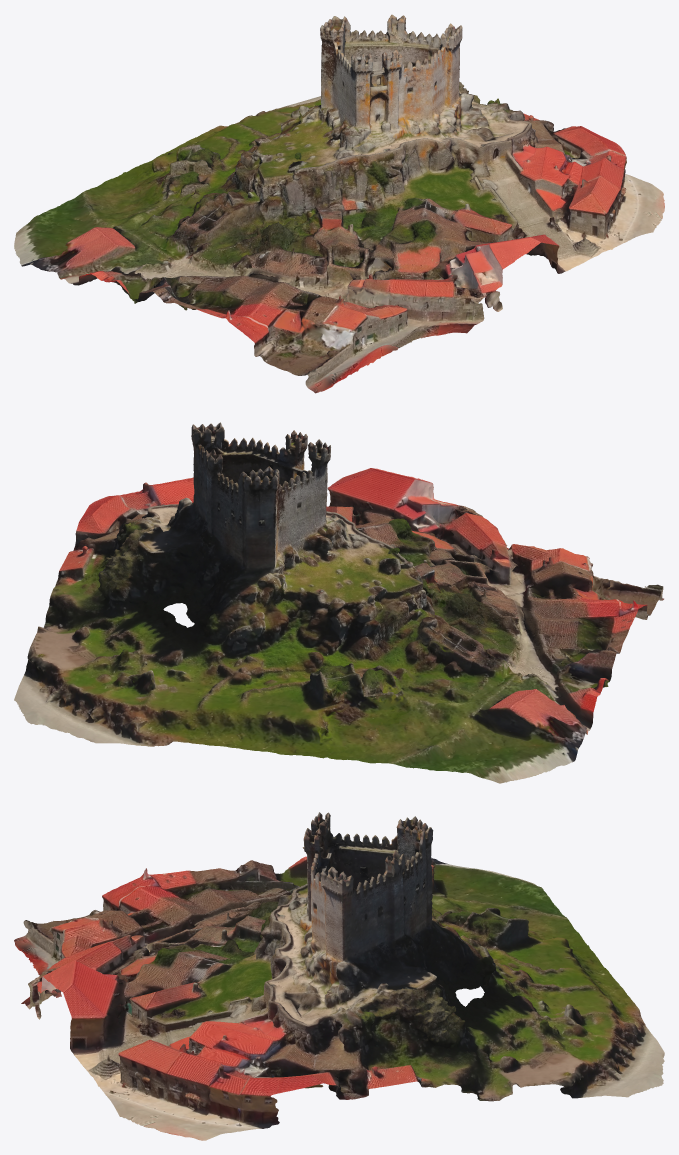
File: castelo.glb
3 renders of one model, top to bottom at view 1: azimuth 30°, elevation 25°; view 2: azimuth 150°, elevation 25°; view 3: azimuth 270°, elevation 25°, orthographic. The views are drawn at different scales.
Visible parts, largest first — view 1: Object_2, Object_3; view 2: Object_2, Object_3; view 3: Object_2, Object_3.
Boxes of the visible parts, bbox=[...] form: Object_2: bbox=[14, 14, 664, 348]; Object_3: bbox=[14, 88, 664, 393]; Object_2: bbox=[14, 422, 639, 783]; Object_3: bbox=[14, 468, 663, 782]; Object_2: bbox=[25, 812, 664, 1140]; Object_3: bbox=[14, 856, 664, 1139].
Size of the model in its own units: 7.15 by 2.51 by 6.54.
Materials: 1 (1 with a texture image).
